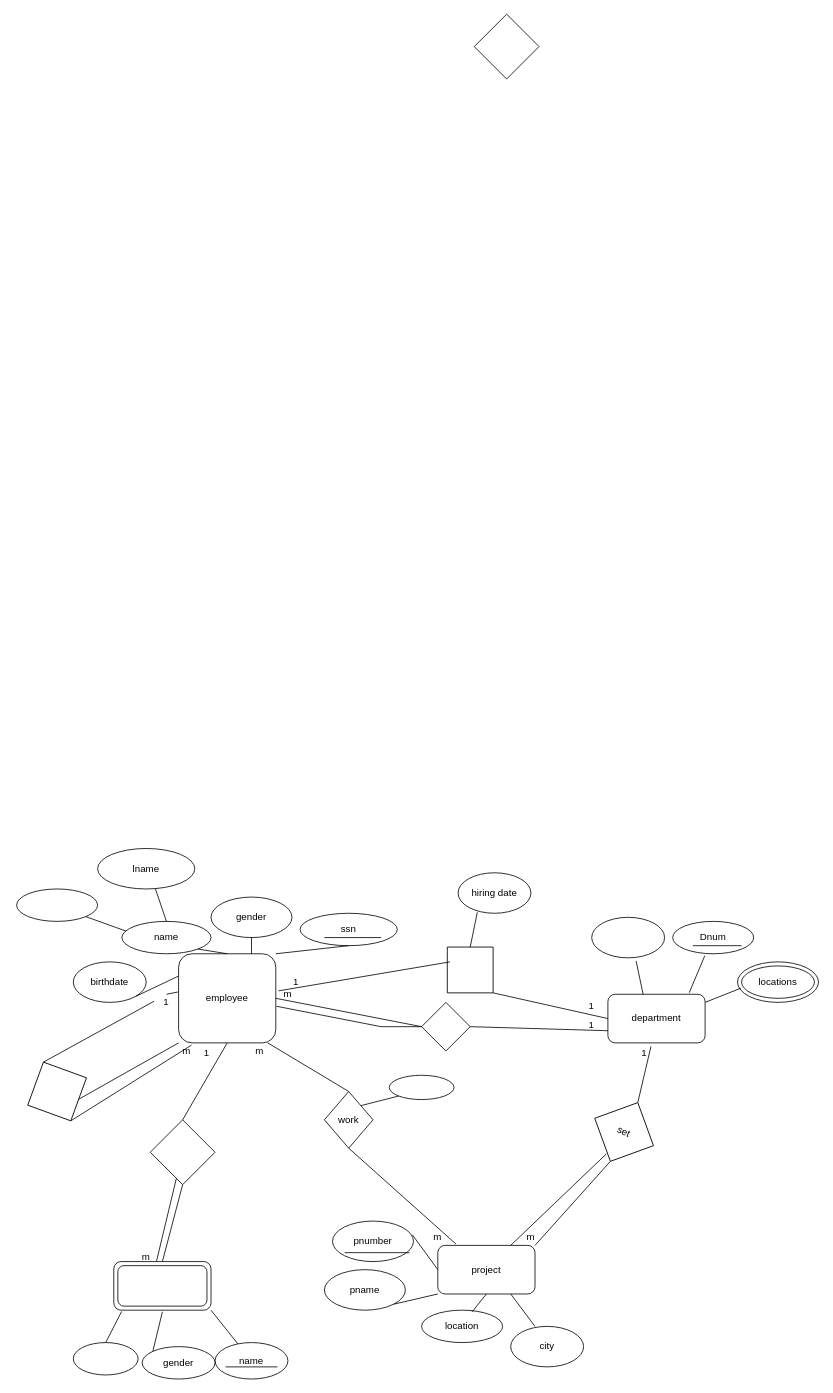
Image size: 833x1393. Some labels were removed from this diagram. The centre of each missing label's shape, as x and y in pixels:
birth date: [105,1358]
dependent: [162,1285]
Dname: [628,937]
fname: [57,904]
have: [182,1152]
manage: [469,969]
supervise: [56,1091]
work on: [445,1026]
working hours: [421,1087]
